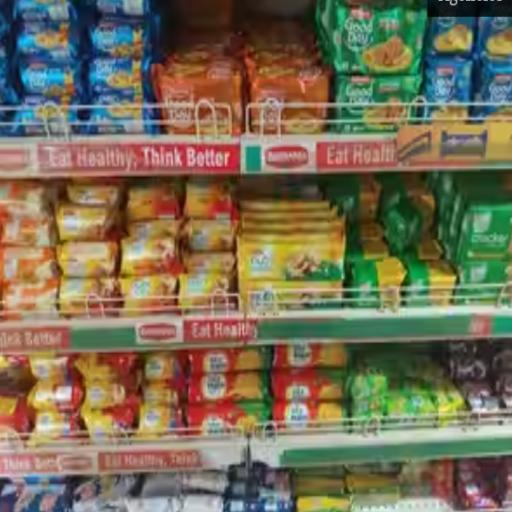goodday: (244, 36, 330, 133), (152, 46, 242, 132), (323, 0, 426, 75), (334, 74, 421, 132), (80, 86, 157, 133), (20, 59, 82, 99), (13, 96, 77, 133), (89, 18, 147, 58), (18, 21, 77, 60), (89, 57, 148, 95), (475, 54, 511, 115), (426, 18, 476, 56), (477, 16, 511, 59), (91, 0, 148, 18), (435, 61, 456, 99), (33, 0, 70, 6)
